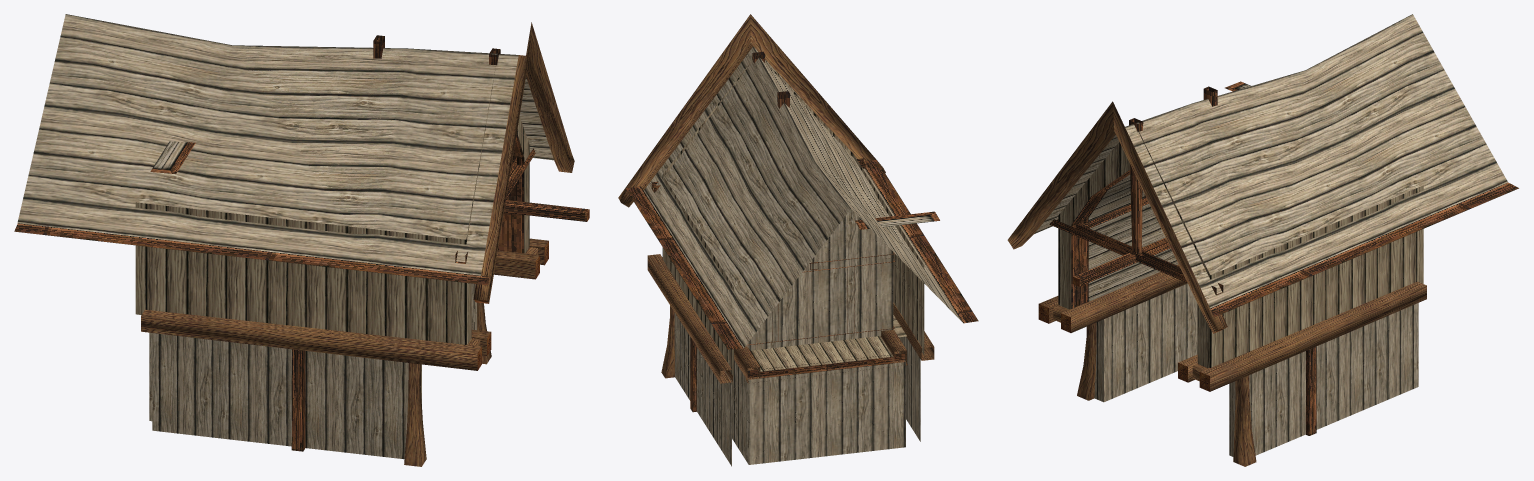
The model's file is LAKETOWN_EXTERIOR_PS_LT_BOATHOUSE93837__GX.obj.
3 views of the same model, side by side, from view 1: azimuth 30°, elevation 25°; view 2: azimuth 150°, elevation 25°; view 3: azimuth 270°, elevation 25° (orthographic). The views are drawn at different scales.
Visible parts, largest first — view 1: tHouse93837__GX; view 2: tHouse93837__GX; view 3: tHouse93837__GX.
Boxes of the visible parts, x1,y1,x2,y2 form: tHouse93837__GX: (14, 14, 589, 466); tHouse93837__GX: (618, 14, 978, 466); tHouse93837__GX: (1007, 14, 1518, 466).
Bounding box in the file's own units: 1313 × 993 × 1313.
